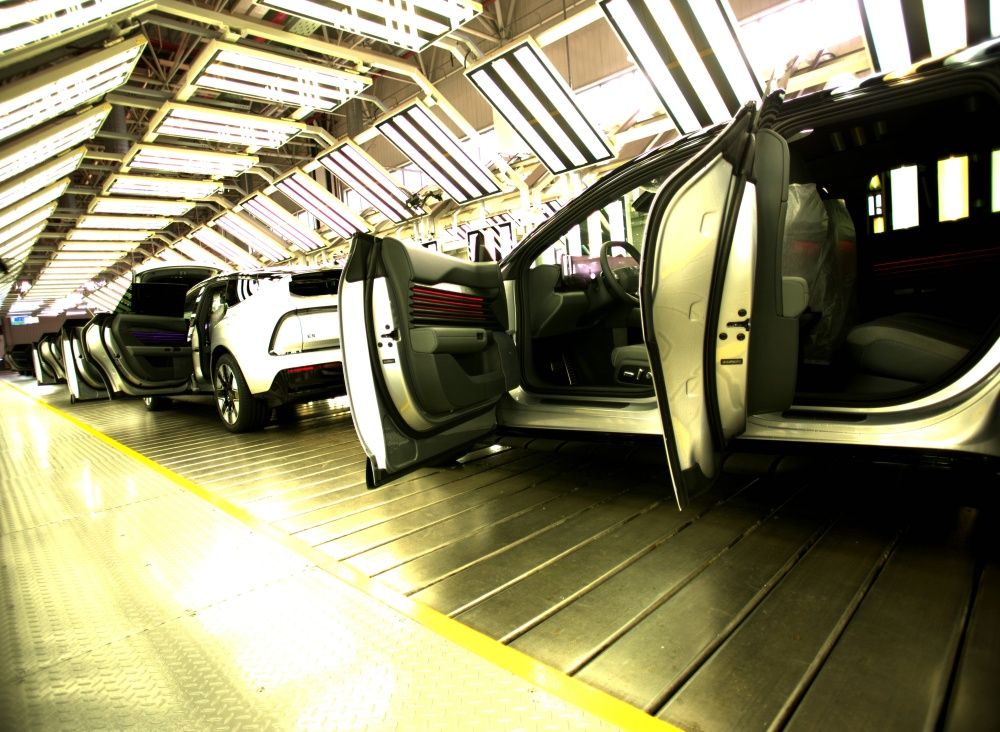armrest_color: (407, 325, 490, 353)
panel_color: (407, 277, 487, 329)
